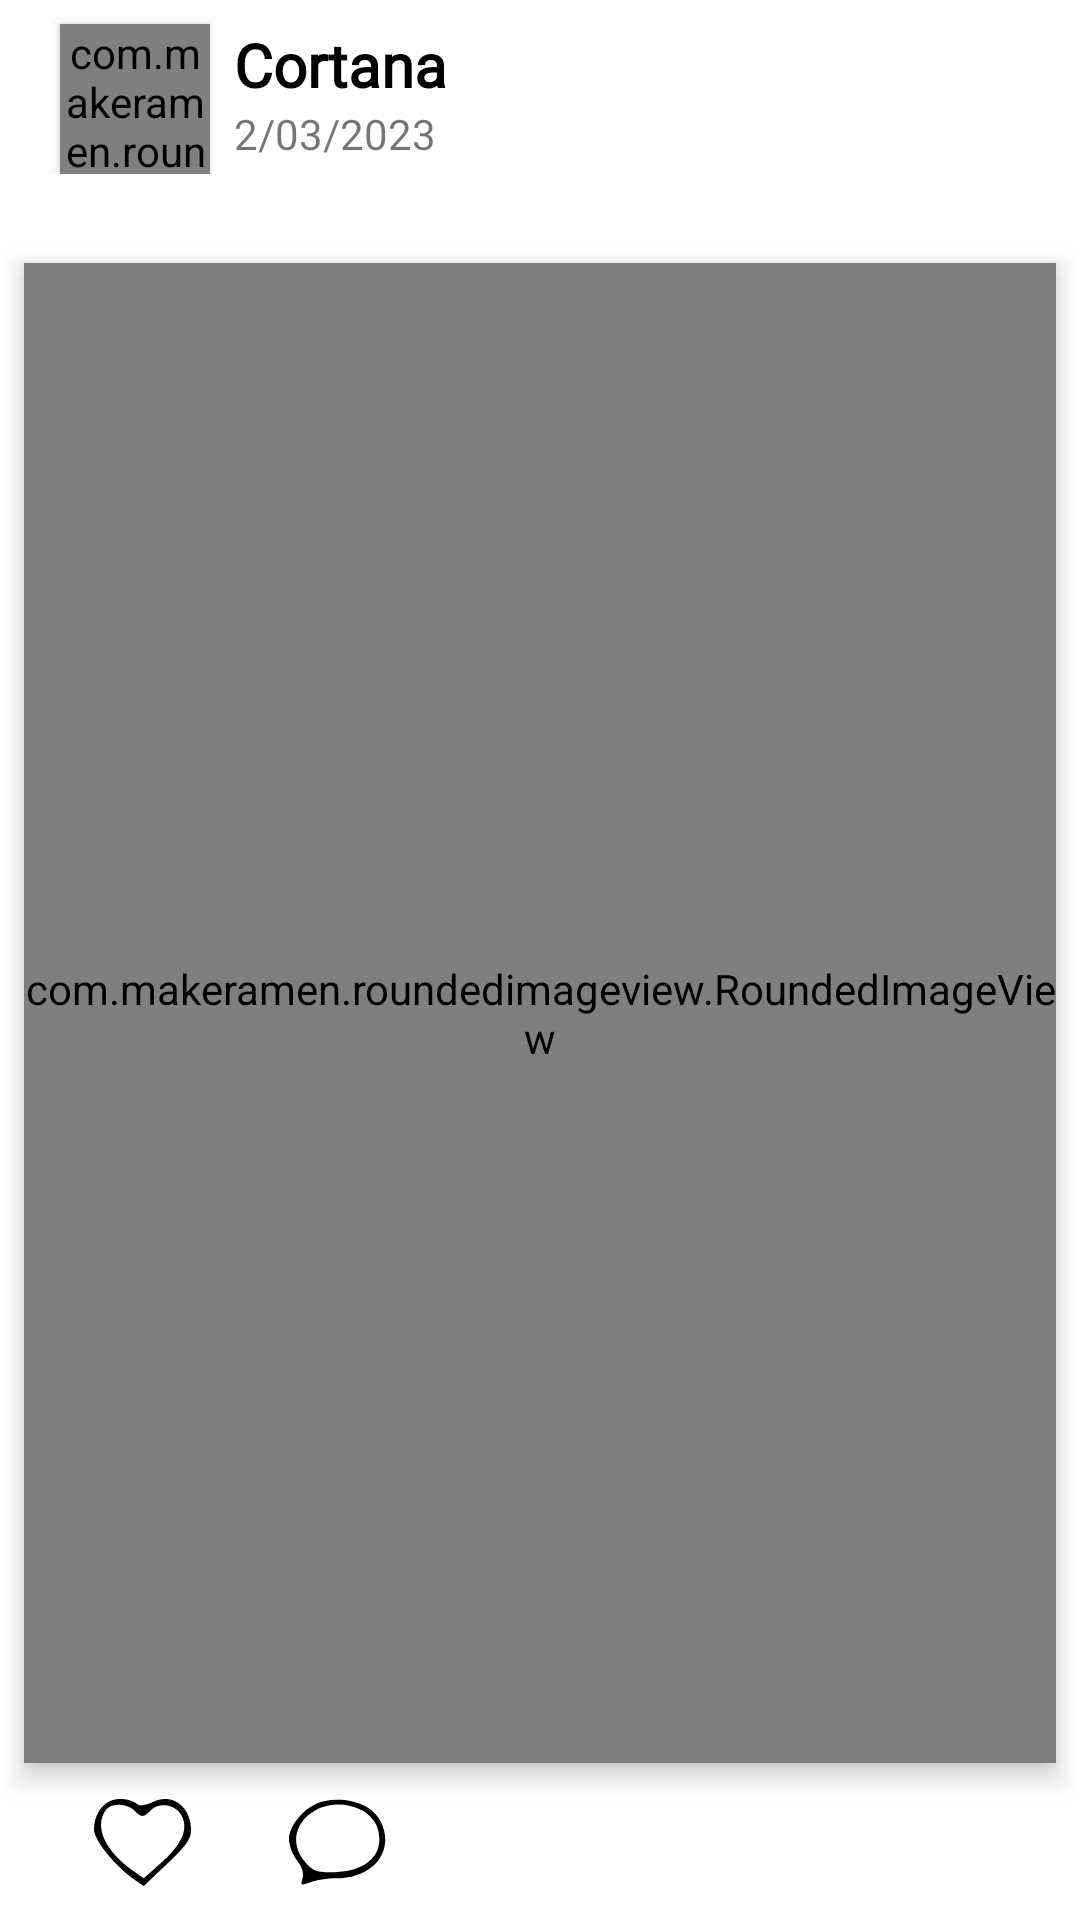

Named icons in this screenshot (1080×1920) and their bounding boxes, rect(x1, y1, x2, y2):
comment: rect(289, 1799, 386, 1885)
like: rect(94, 1799, 191, 1886)
